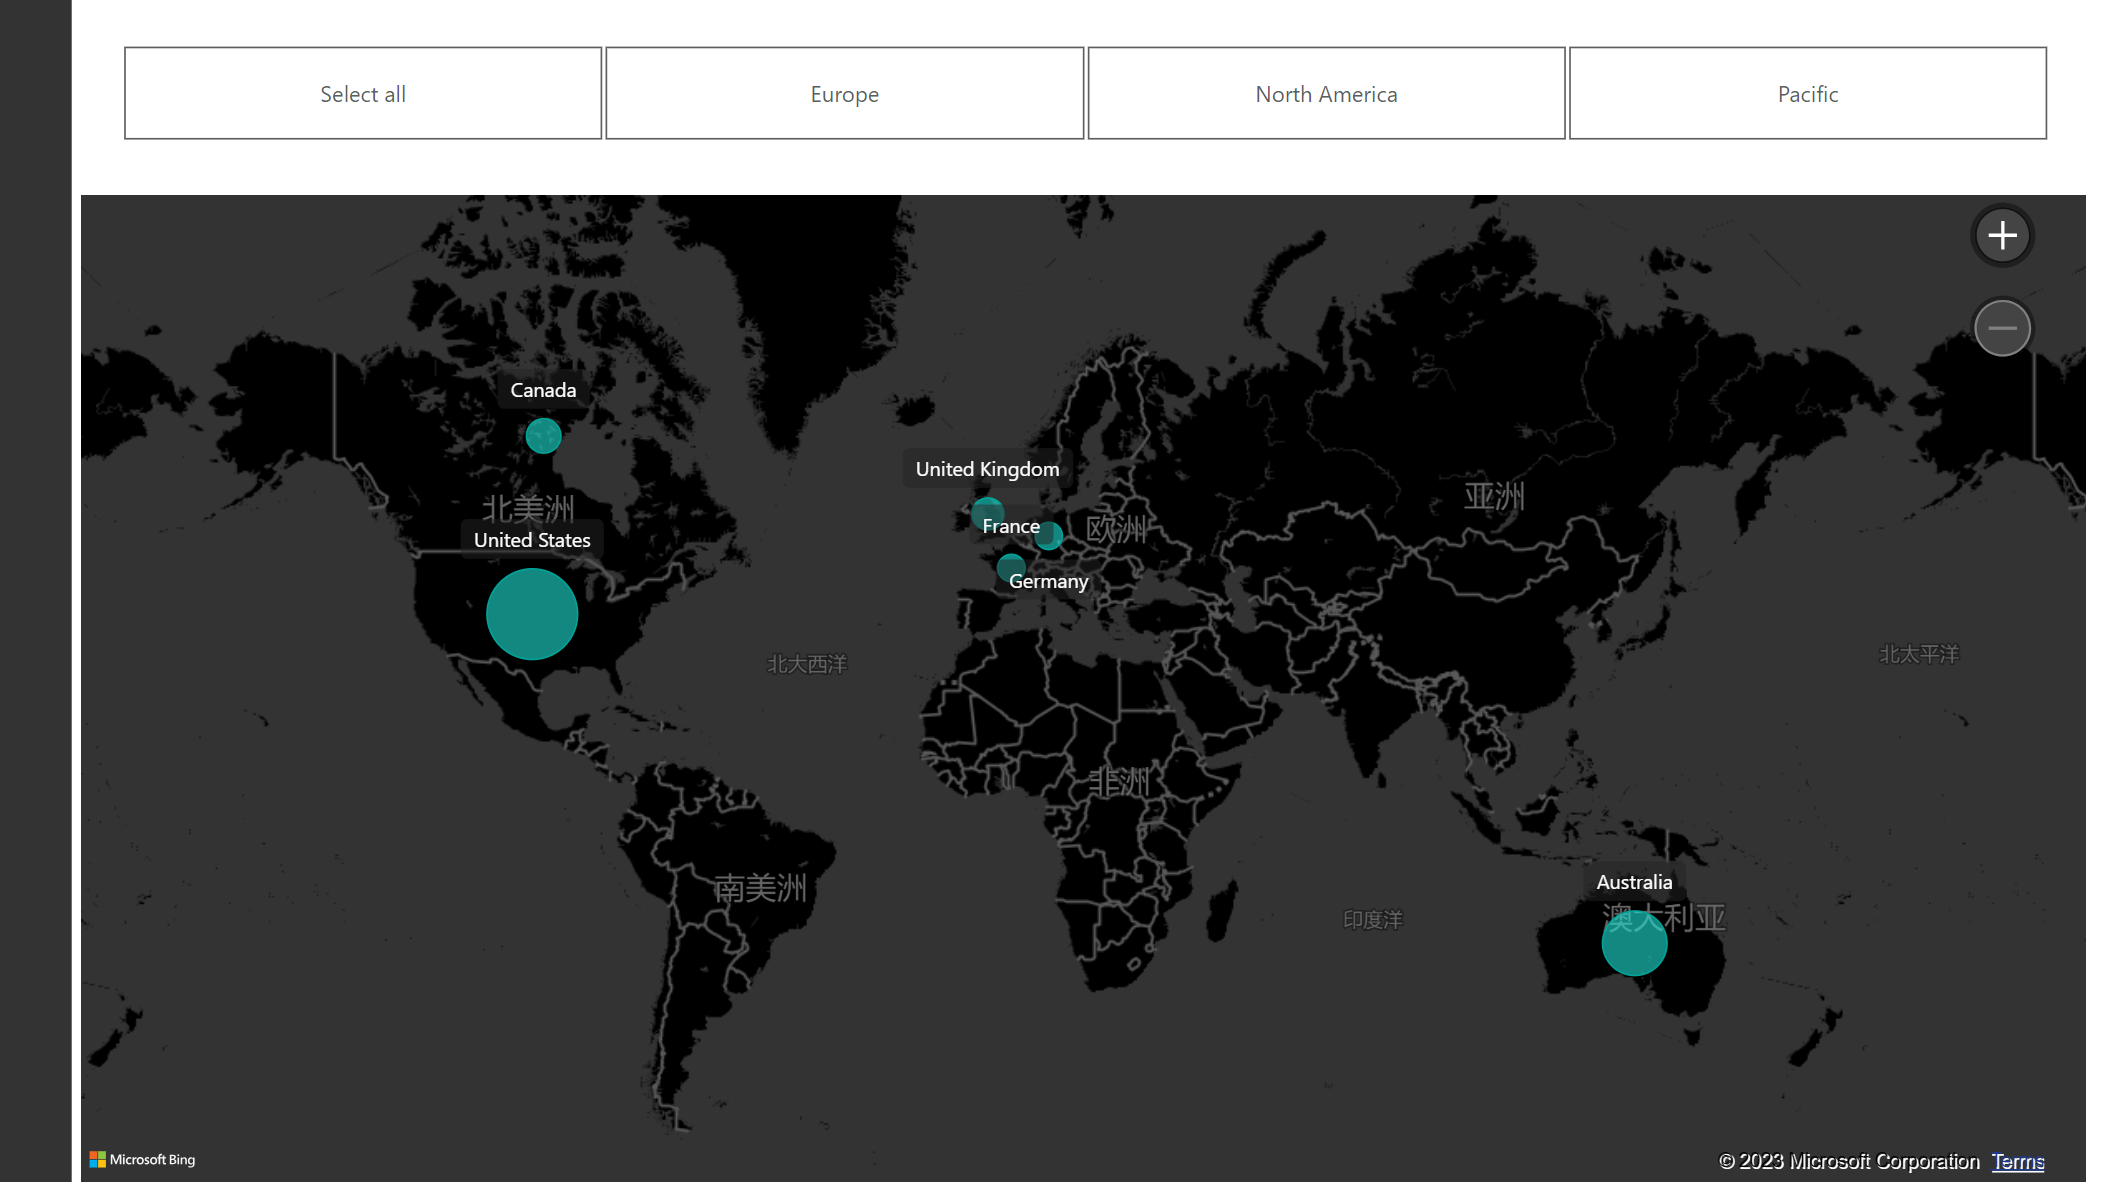

The dashboard page shown, as its layout file describes it:
{"tool":"powerbi","page":{"name":"Map","canvas":[1280,720],"ordinal":1},"visuals":[{"type":"shape","box":[0,0,45,720.5],"z":0},{"type":"map","fields":{"Category":["Territory Lookup.Country"],"Size":["Measure Table.Total Orders"]},"box":[45.5,115.7,1217.6,605.6],"z":1000},{"type":"slicer","fields":{"Values":["Territory Lookup.Continent"]},"box":[50.7,24.7,1208.5,70.2],"z":2000}]}

Visuals, with their boxes in screenshot pixels (x1, y1, x2, y2), scaled from the page's 1280x720 canvas onto the 2103x1182 screenshot:
shape: l=0, t=0, r=74, b=1181
map - Territory Lookup.Country x Measure Table.Total Orders: l=75, t=190, r=2075, b=1181
slicer - Territory Lookup.Continent: l=83, t=41, r=2069, b=156
